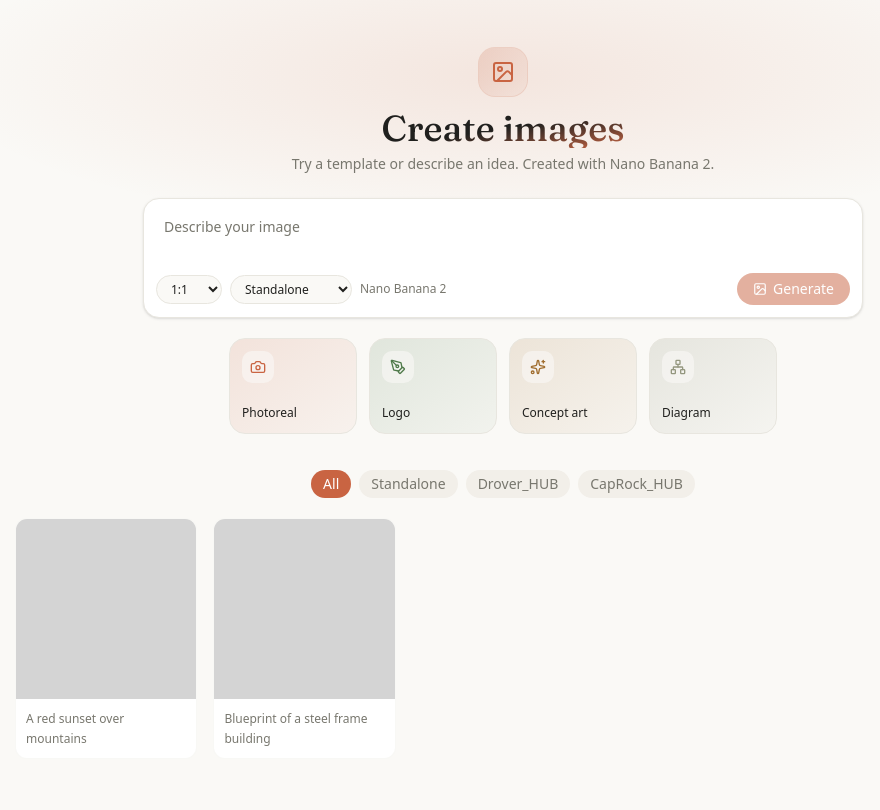
ImagesView › shows the no-key hint on 503 from generate
This screenshot has width=880, height=810.
Check: the text "A red sunset over mountains" is shown, box [26, 710, 124, 747]
Type "test" into the text box with placeholder "Describe your image" at x=503, y=237, box [156, 211, 850, 263]
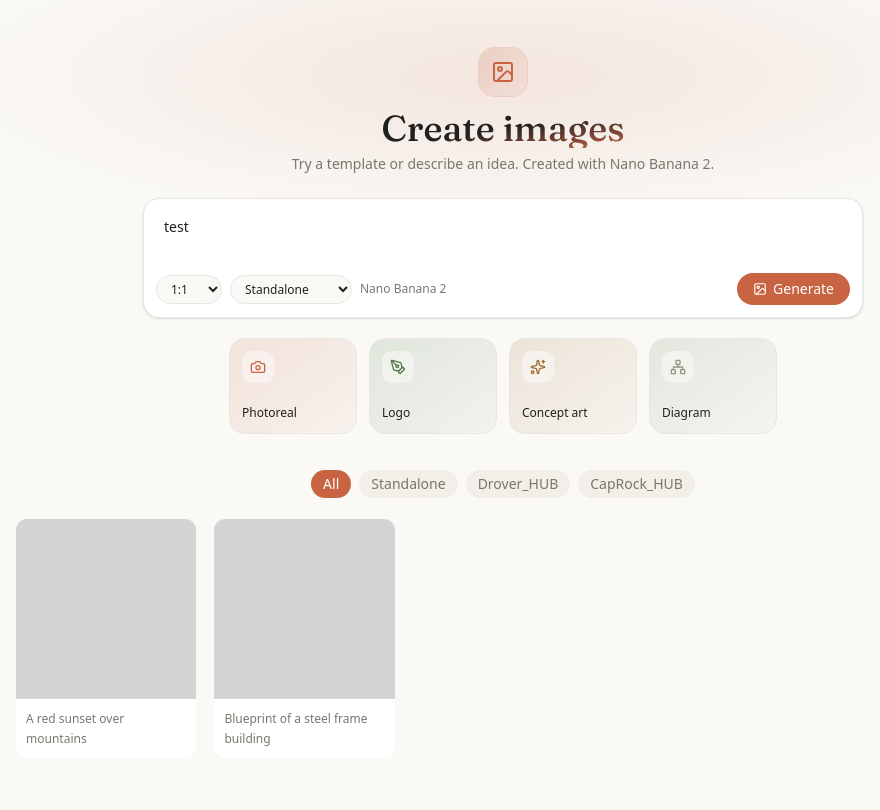
Click the button "Generate" at x=794, y=289, box [737, 273, 850, 305]
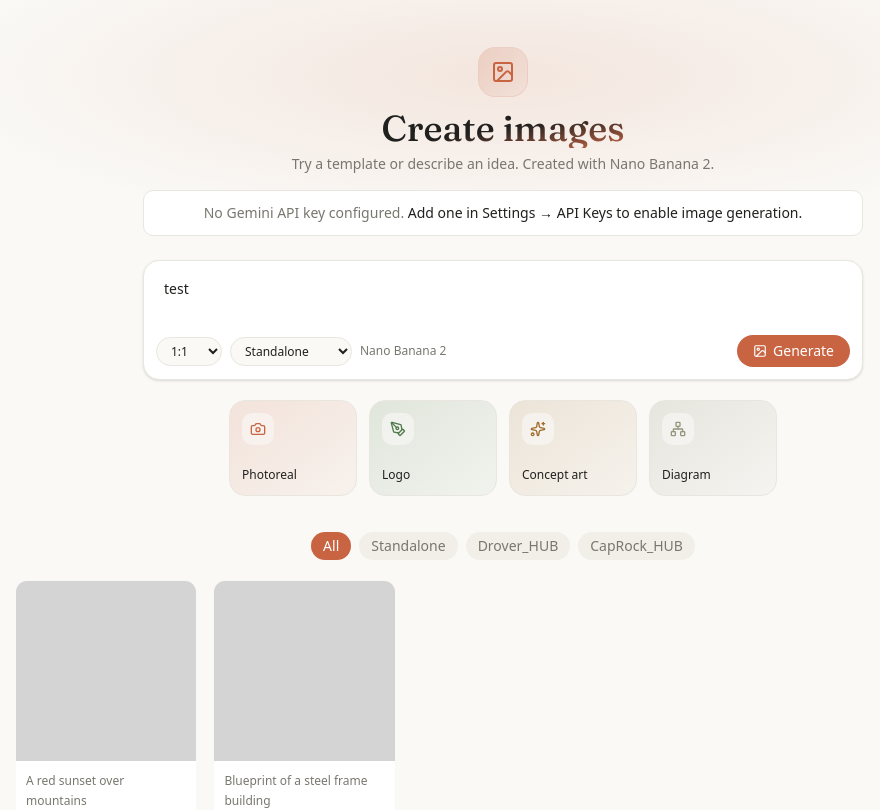
Check: the text "No Gemini API key configured" is shown, box [204, 203, 404, 222]
